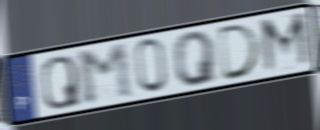0: (133, 36, 170, 97)
D: (216, 21, 264, 84)
M: (74, 41, 137, 108), (258, 9, 315, 76)
Q: (171, 28, 220, 89), (40, 53, 83, 111)
